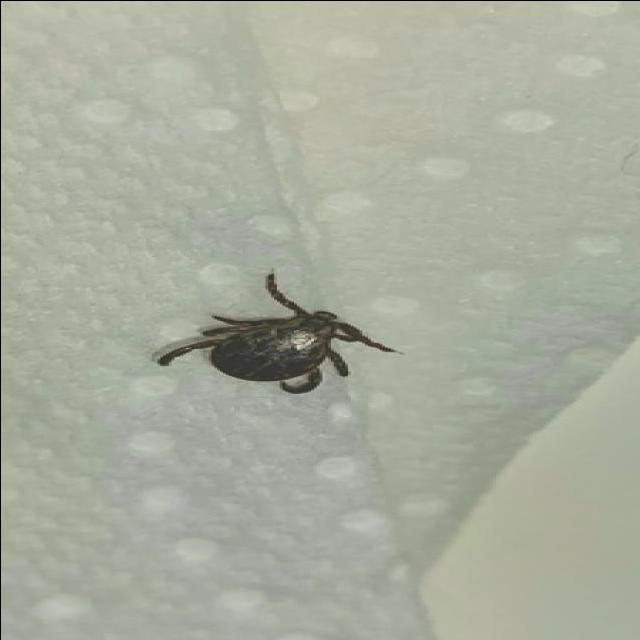Dermacentor Reticulatus-M: (148, 273, 401, 393)
